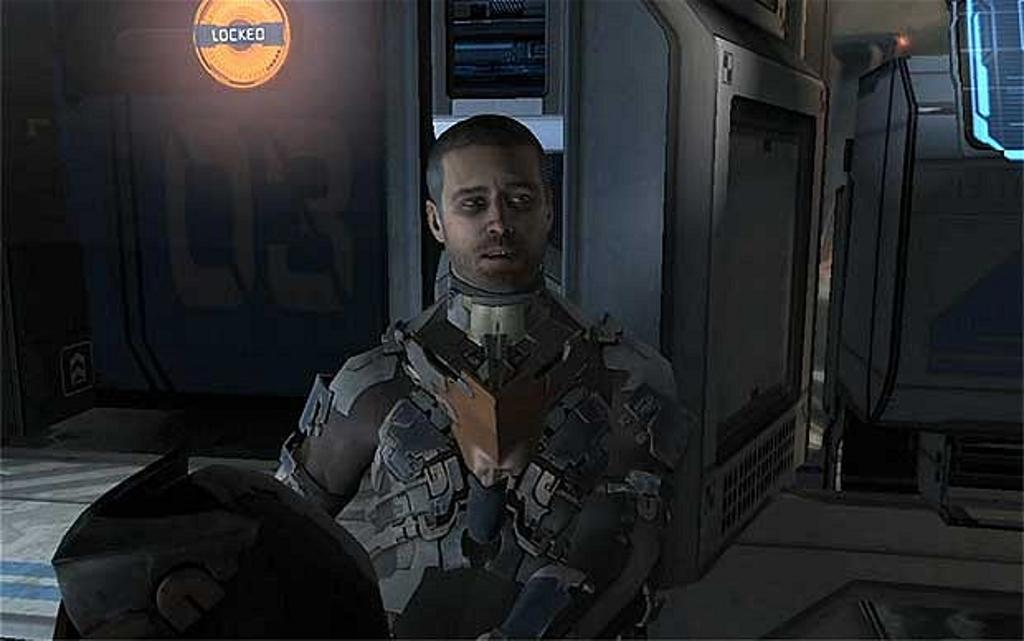face: (442, 150, 542, 294)
